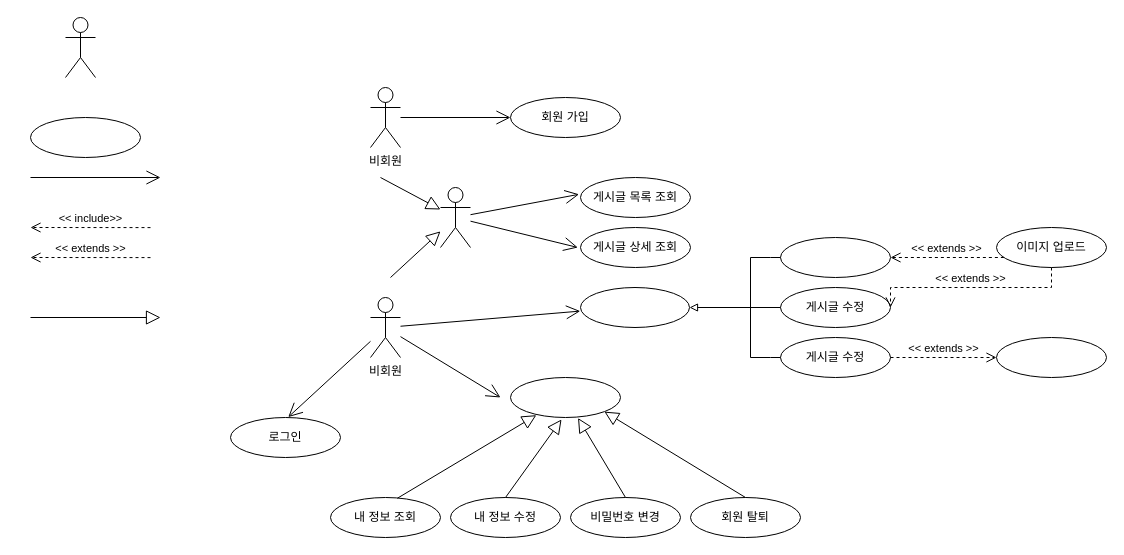
Image size: 1124x555. Some labels were removed from this diagram. Each missing label, with the centre of its shape:
"Actor" goes at (80,47).
"게시글 관리" goes at (635,307).
"게시글 작성" goes at (835,257).
"사용자" goes at (455,217).
"삭제 전 확인" goes at (1051,357).
"유스 케이스" goes at (85,137).
"회원 관리" goes at (565,397).
